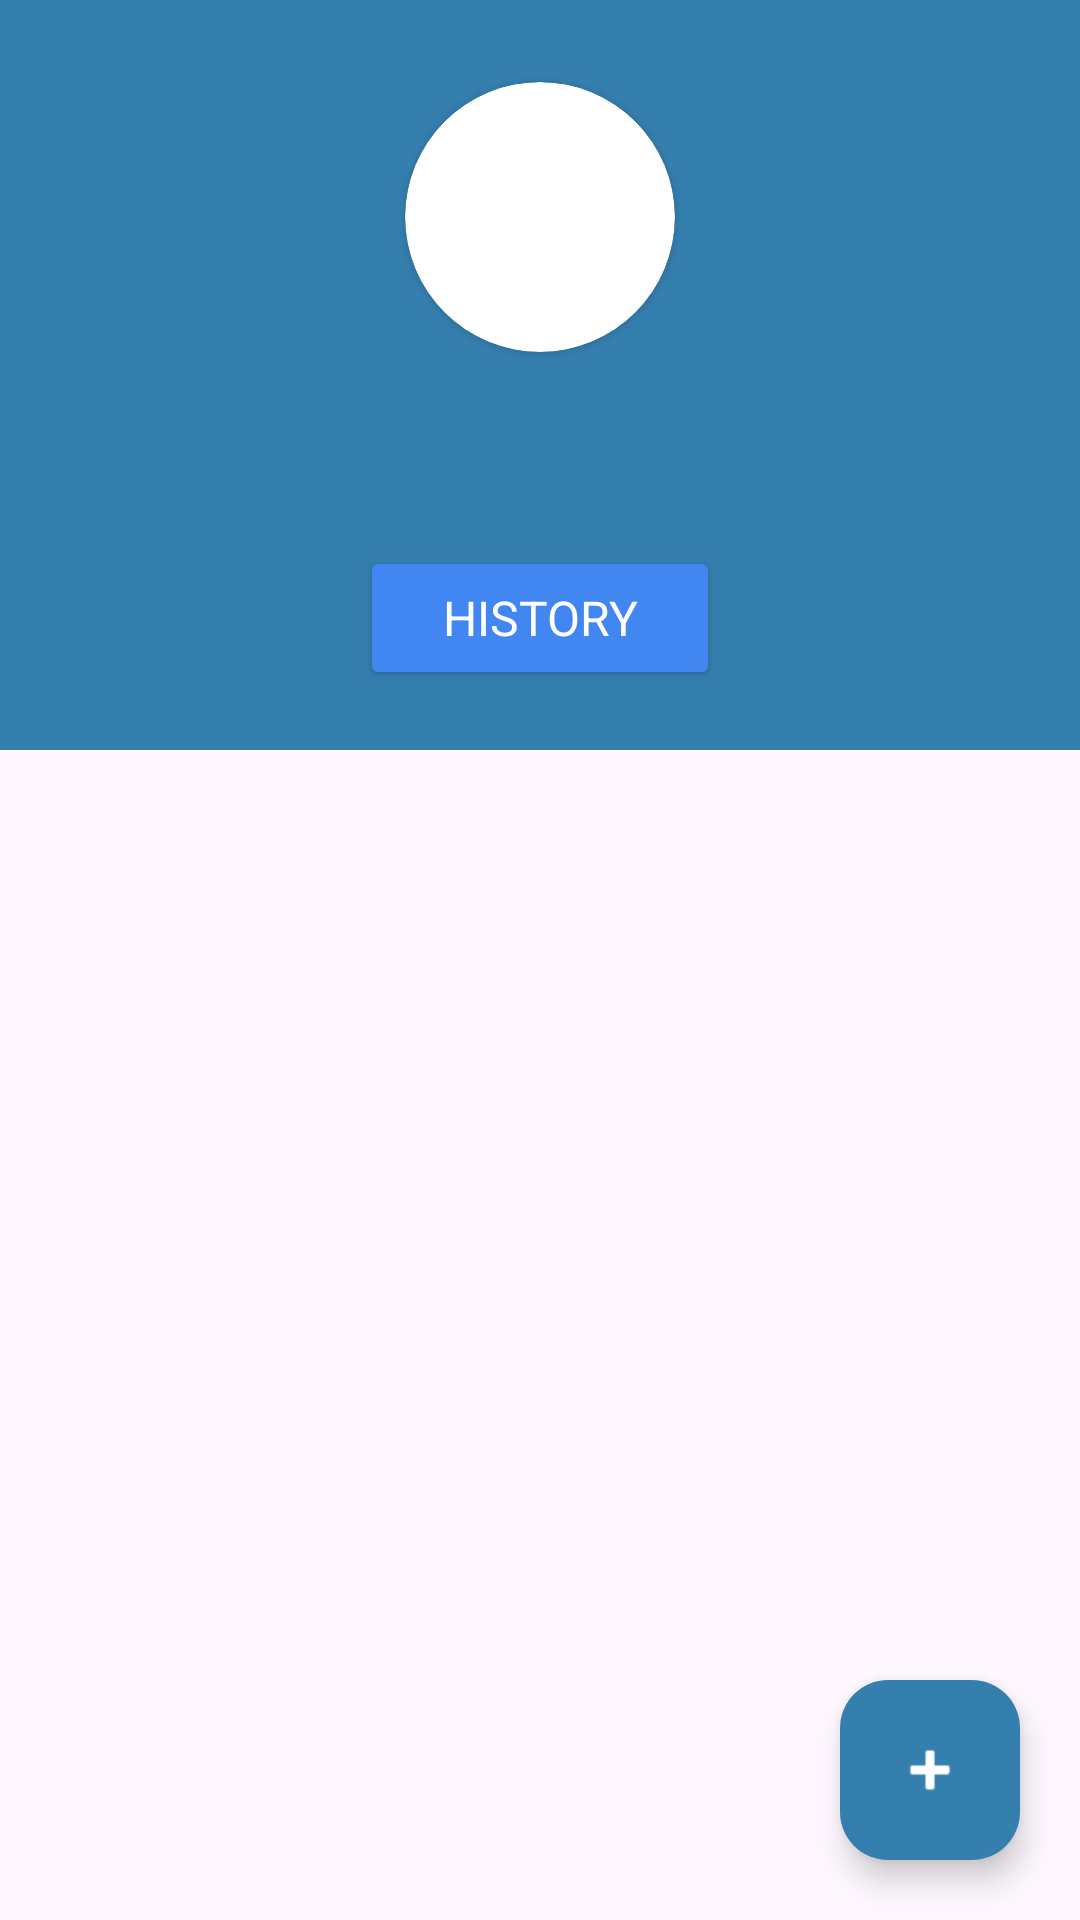

Icons on this 1080x1920 Android screen, each with its box as (x1, y1, x2, y2):
add: (840, 1680, 1020, 1860)
